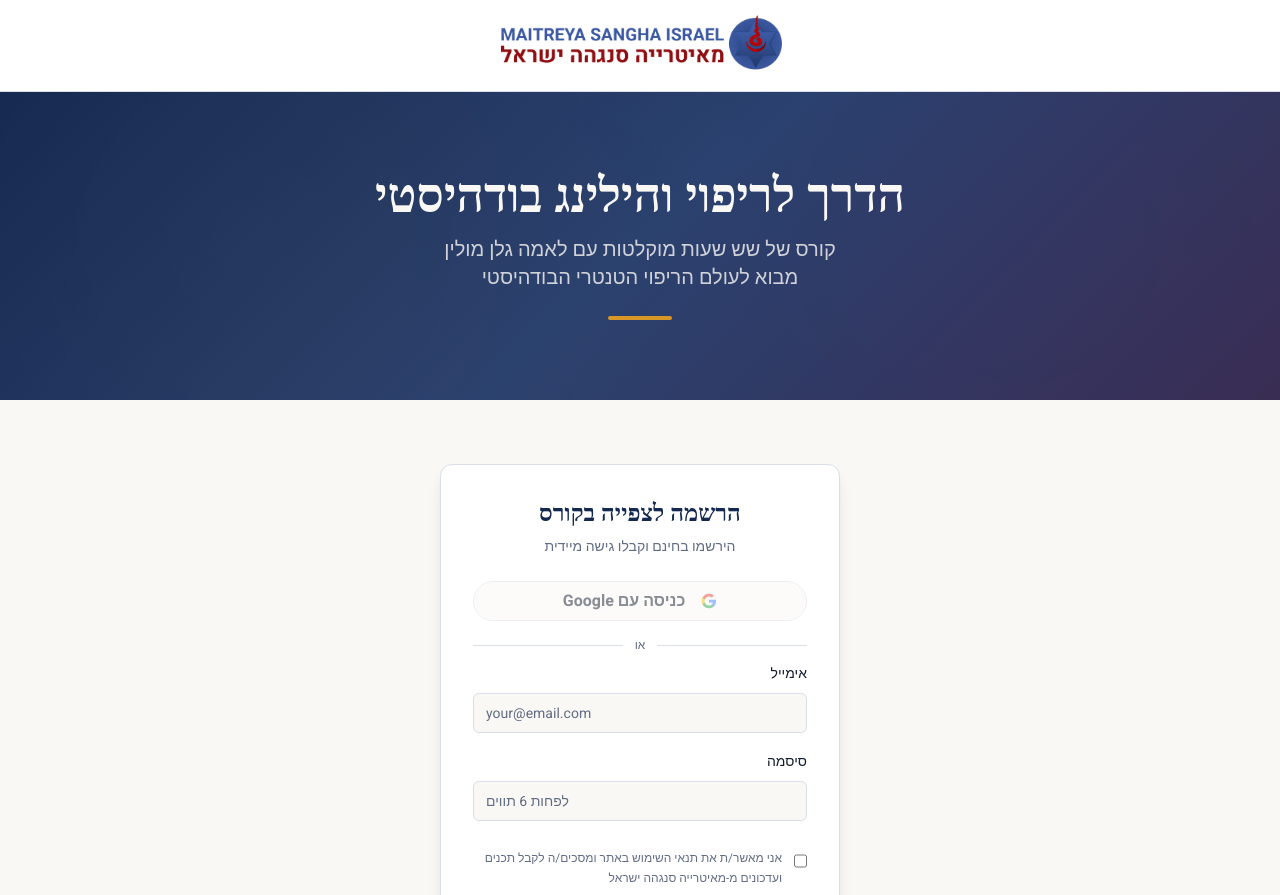
Scenario: Register flow › displays signup error from Supabase
expect the field labelled "אימייל" is shown: met, box [473,693,807,733]
Click the checkbox.
click(800, 861)  # box [794,853,807,869]
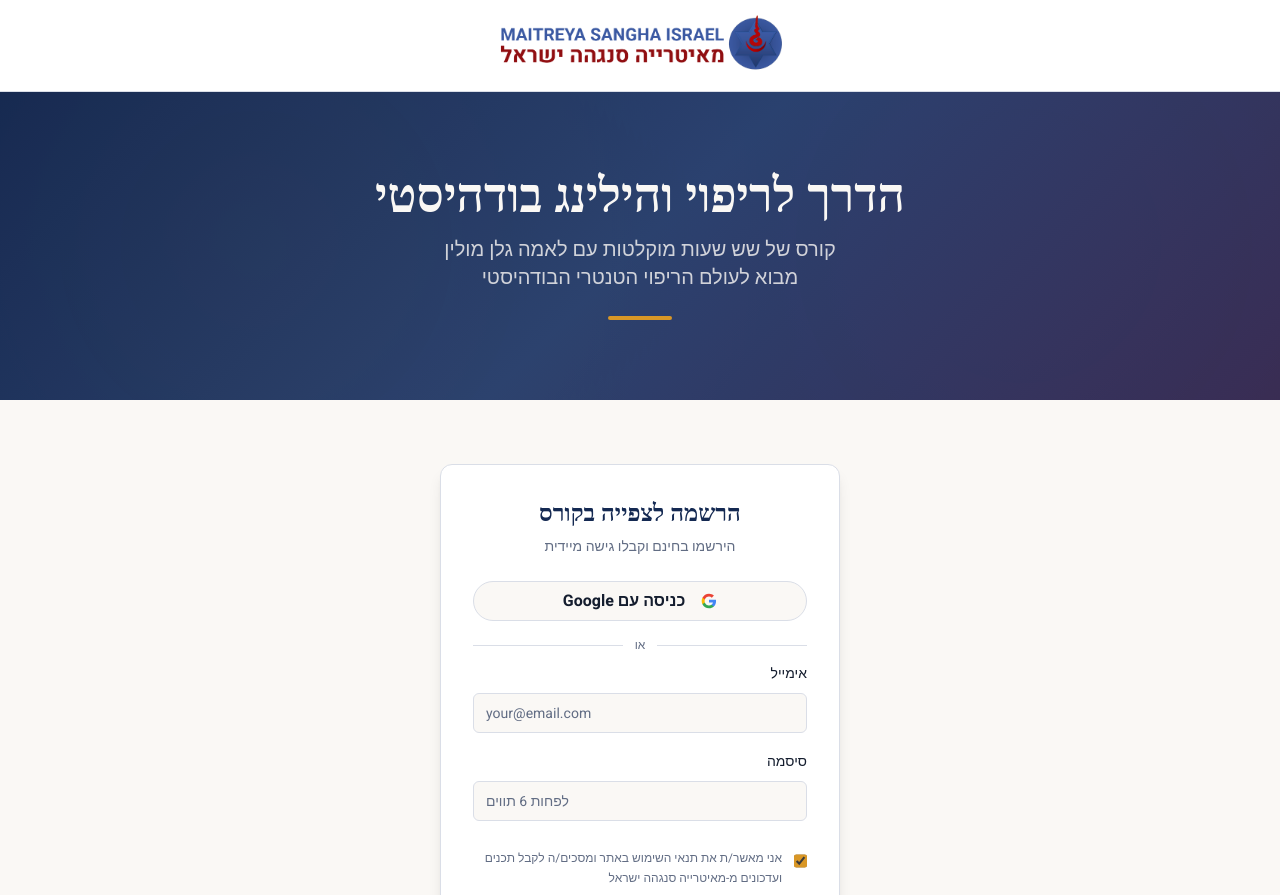
Type "test@test.com" into the field labelled "אימייל".
click(640, 713); type("test@test.com")  # box [473,693,807,733]
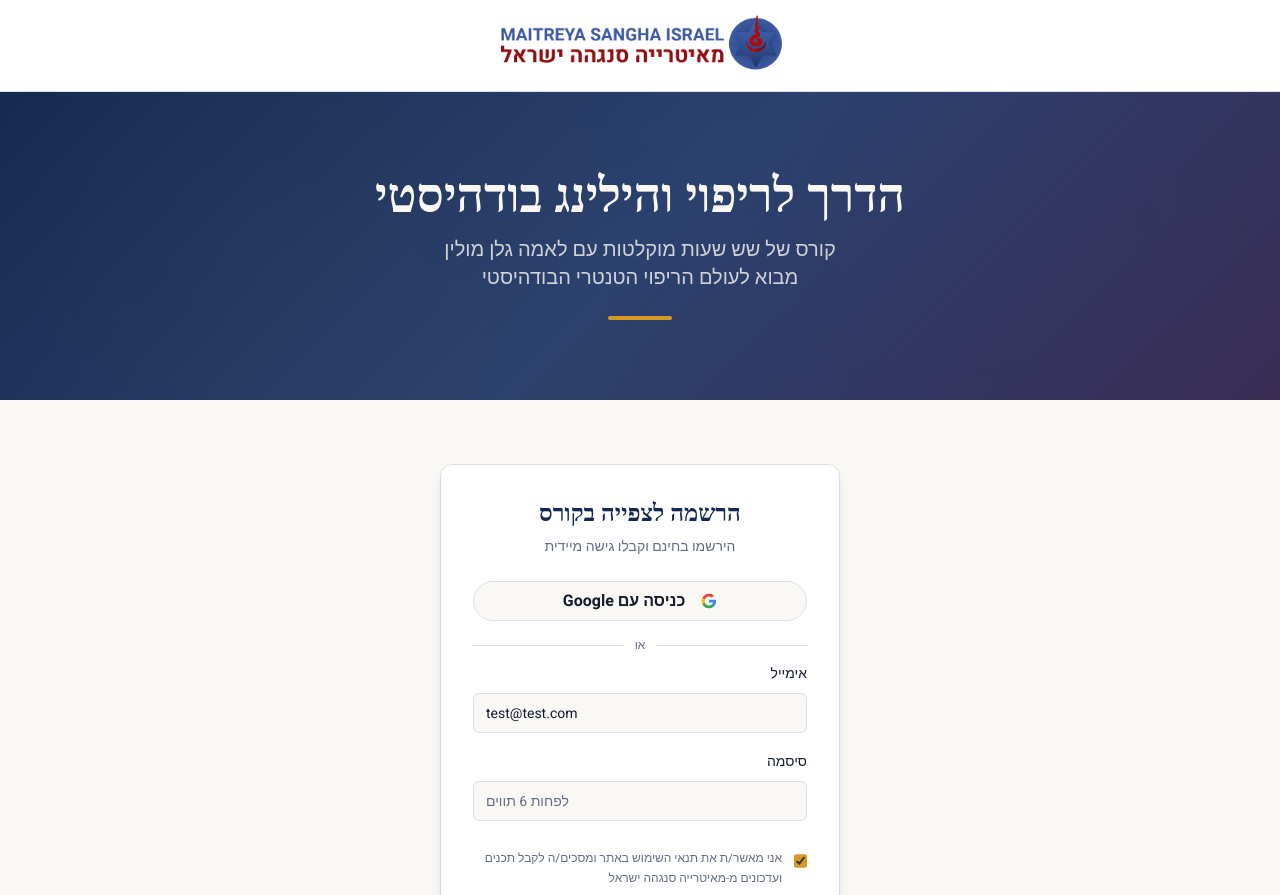
Type "password123" into the password field labelled "סיסמה".
click(640, 801); type("password123")  # box [473,781,807,821]
(page scrolled)
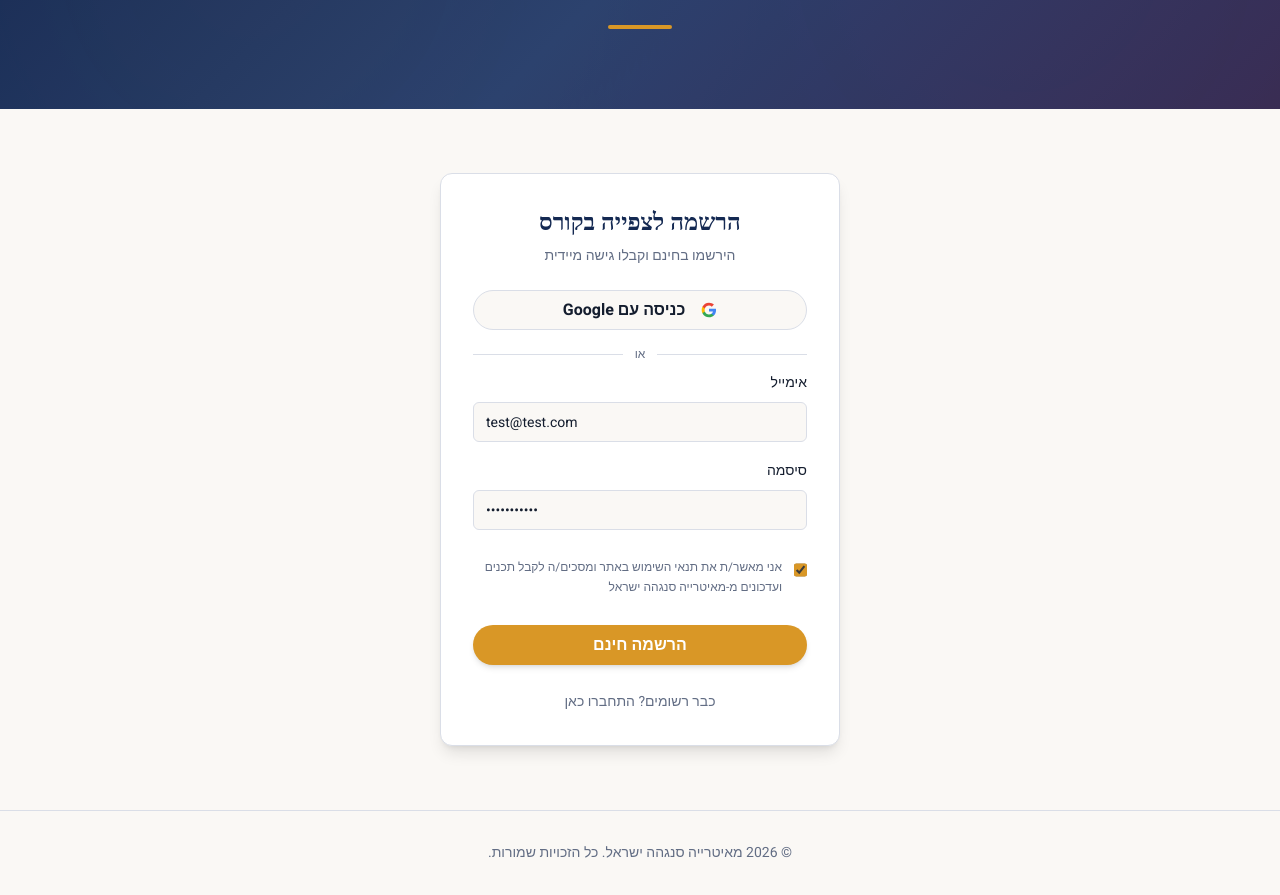
Click the button "הרשמה חינם".
click(640, 645)  # box [473,625,807,665]
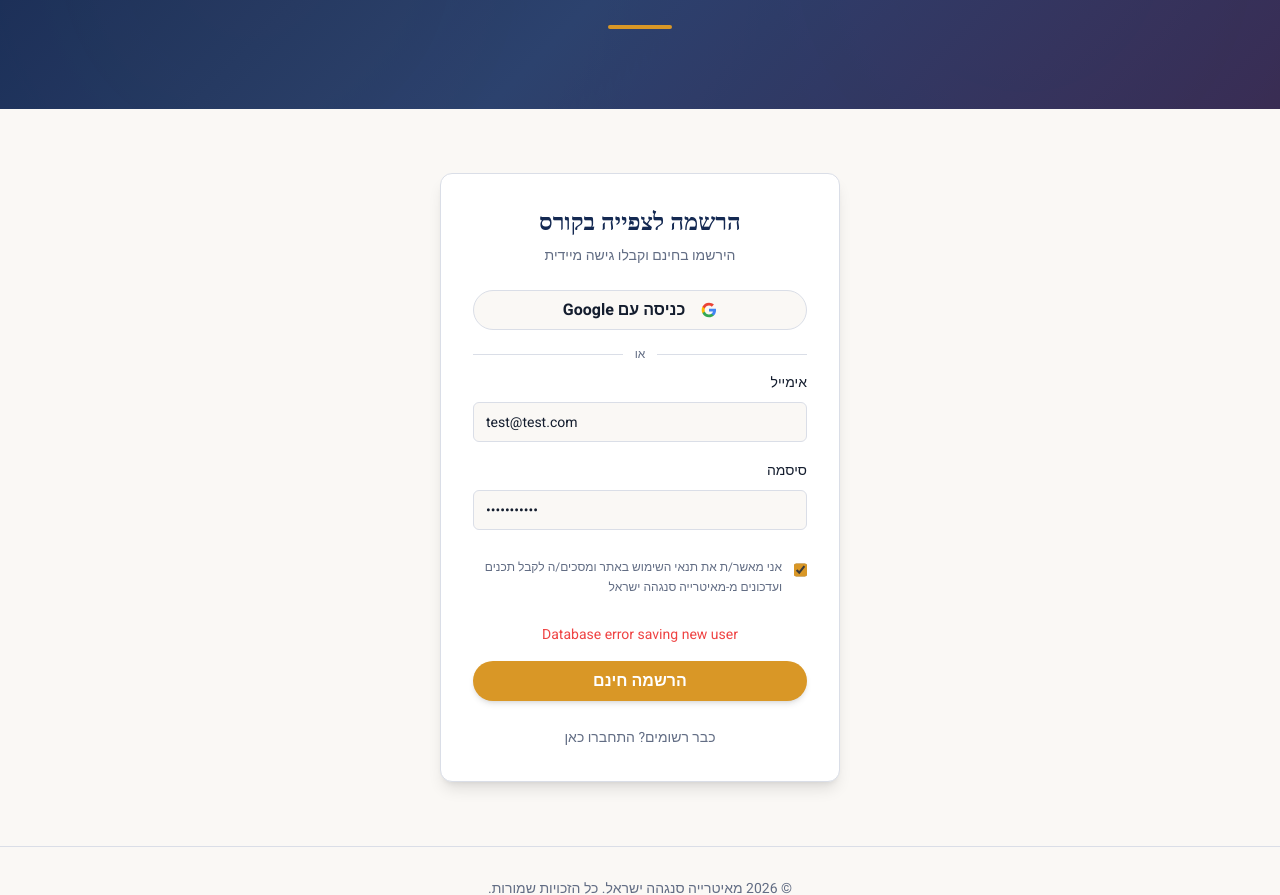
expect the text "Database error saving new user" is shown: met, box [542,624,738,645]
